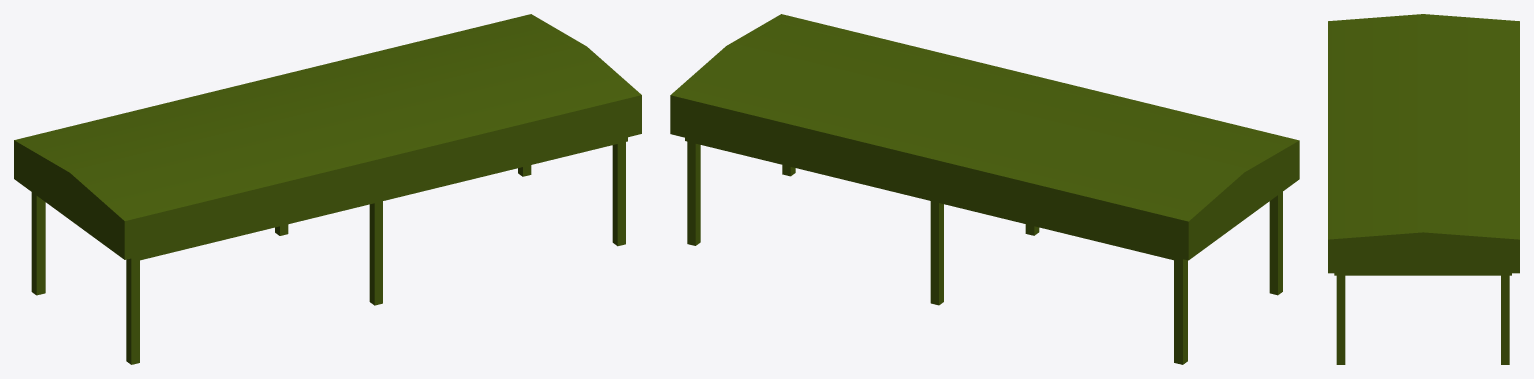
The model's file is Stool_01_Mesh.fbx.
The picture shows the model from 3 angles, left to right: view 1: azimuth 30°, elevation 25°; view 2: azimuth 150°, elevation 25°; view 3: azimuth 270°, elevation 25°; orthographic projection. The views are drawn at different scales.
Visible parts, largest first — view 1: OfficeStool_01_col; view 2: OfficeStool_01_col; view 3: OfficeStool_01_col.
Boxes of the visible parts, x1,y1,x2,y2 form: OfficeStool_01_col: (14, 14, 641, 364); OfficeStool_01_col: (670, 14, 1299, 364); OfficeStool_01_col: (1328, 14, 1519, 364).
Size of what is drawn, in the model's own units: 182 by 53.37 by 67.59.
